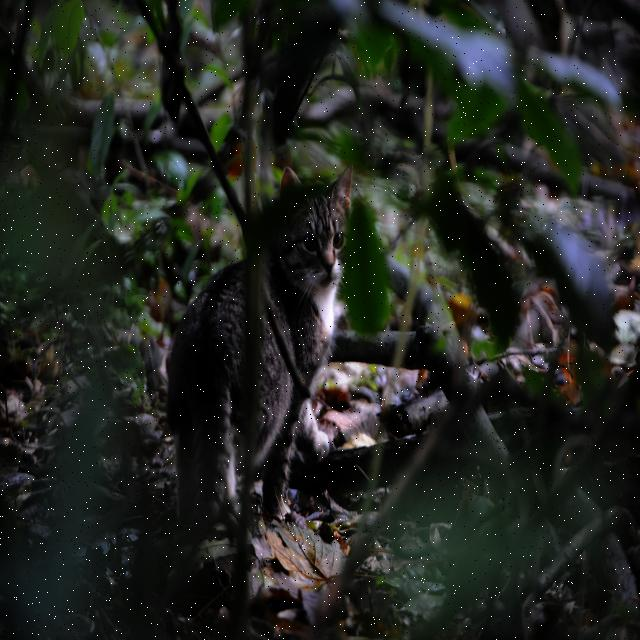cat: (169, 263, 246, 531), (265, 169, 351, 389), (254, 314, 330, 516), (281, 169, 299, 193)
